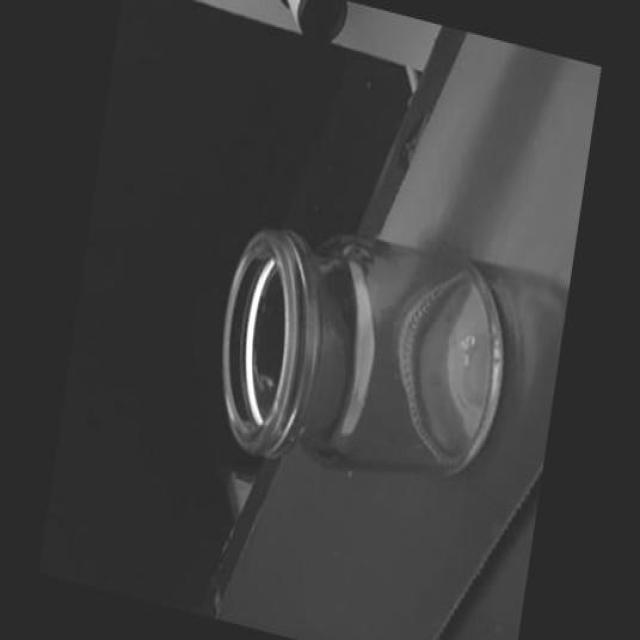defect: (298, 423, 306, 438)
glass: (201, 190, 517, 523)
